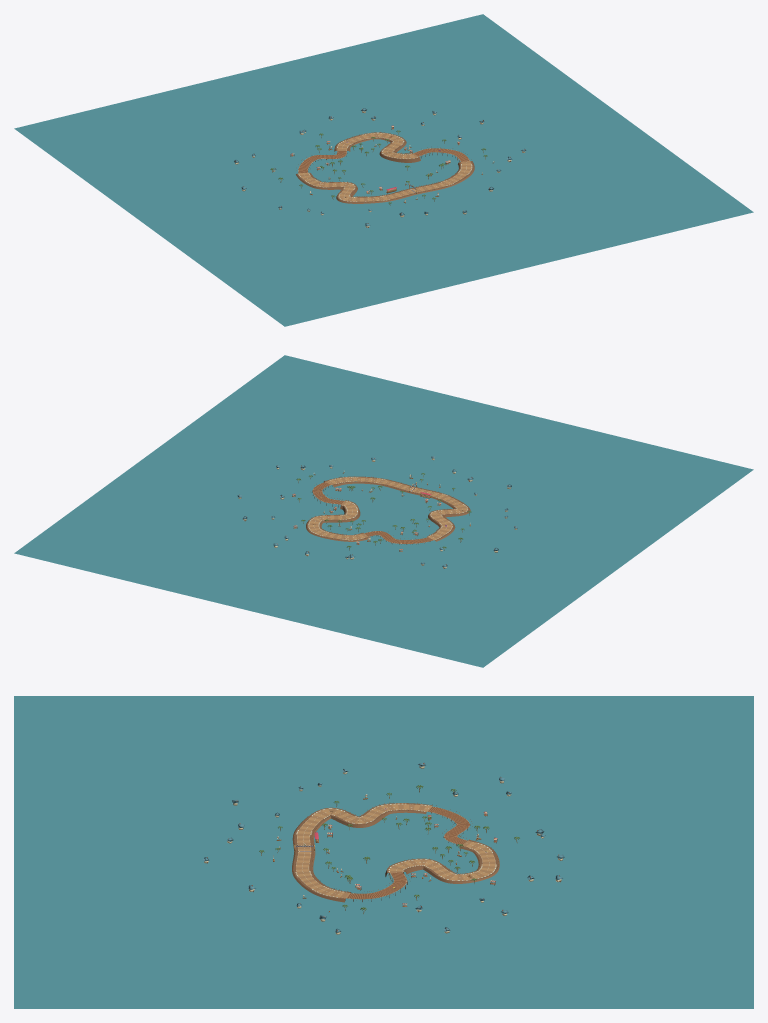
The model's file is carreras_puerto.glb.
The picture shows the model from 3 angles, top to bottom: view 1: azimuth 30°, elevation 25°; view 2: azimuth 150°, elevation 25°; view 3: azimuth 270°, elevation 25°; orthographic projection. The views are drawn at different scales.
Parts seen in each view (by area): view 1: puerto Tela | fondo puerto 99 99; view 2: puerto Tela | fondo puerto 99 99; view 3: puerto Tela | fondo puerto 99 99, puerto Tela | camino claro puerto -1 -1, puerto Tela | camino puerto -1 -1, puerto Tela | camino claro puerto 0 0, puerto Tela | techo #5d8f9c 99 99, puerto Tela | camino puerto 0 0, puerto Madera | tablas puente -1 0, puerto Madera | tablas puente oscuras -1 0.
Part boxes in pixels (x1,y1,x2,y2): puerto Tela | fondo puerto 99 99: [14, 14, 753, 326]; puerto Tela | fondo puerto 99 99: [14, 355, 753, 667]; puerto Tela | fondo puerto 99 99: [14, 696, 753, 1008]; puerto Tela | camino claro puerto -1 -1: [297, 806, 387, 851]; puerto Tela | camino puerto -1 -1: [297, 806, 386, 849]; puerto Tela | camino claro puerto 0 0: [389, 850, 495, 880]; puerto Tela | techo #5d8f9c 99 99: [202, 762, 564, 932]; puerto Tela | camino puerto 0 0: [390, 852, 495, 880]; puerto Madera | tablas puente -1 0: [427, 806, 469, 844]; puerto Madera | tablas puente oscuras -1 0: [428, 807, 469, 844].
Size of the model in its own units: 840 by 11.25 by 840.
